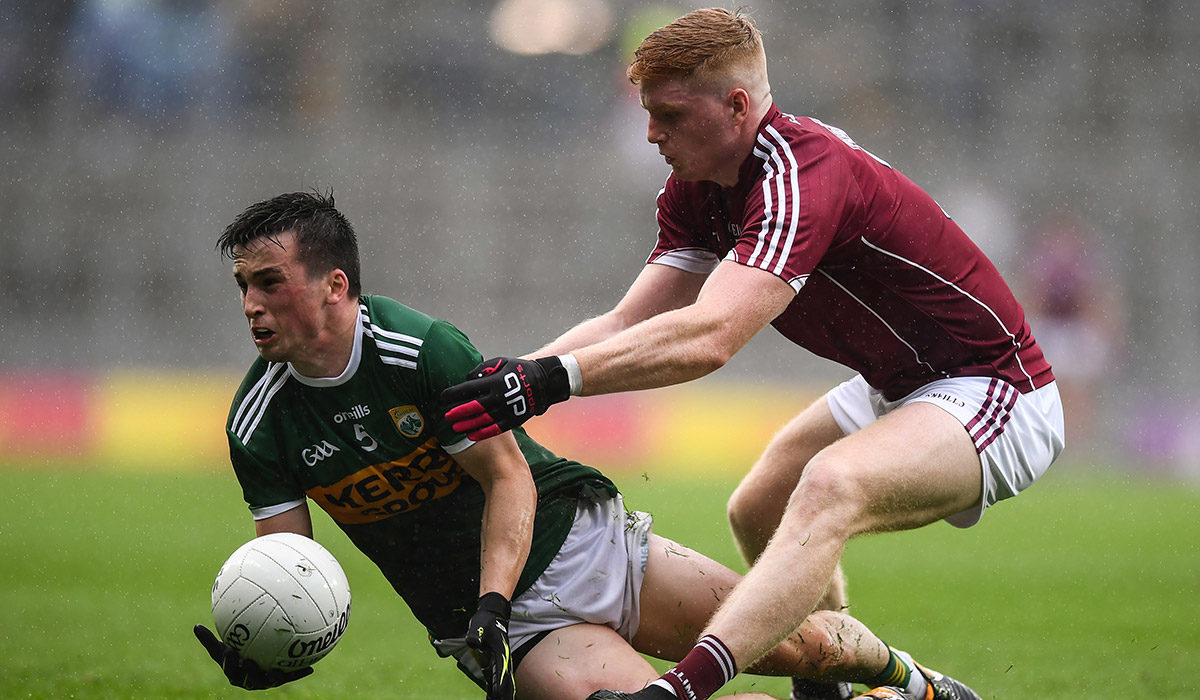ball: (200, 532, 373, 668)
player: (201, 189, 795, 667), (617, 18, 1013, 621)
